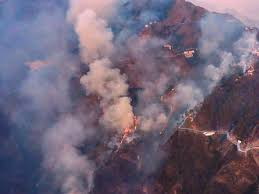fire: (120, 115, 143, 141)
smoke: (23, 5, 138, 192), (144, 7, 242, 109)
